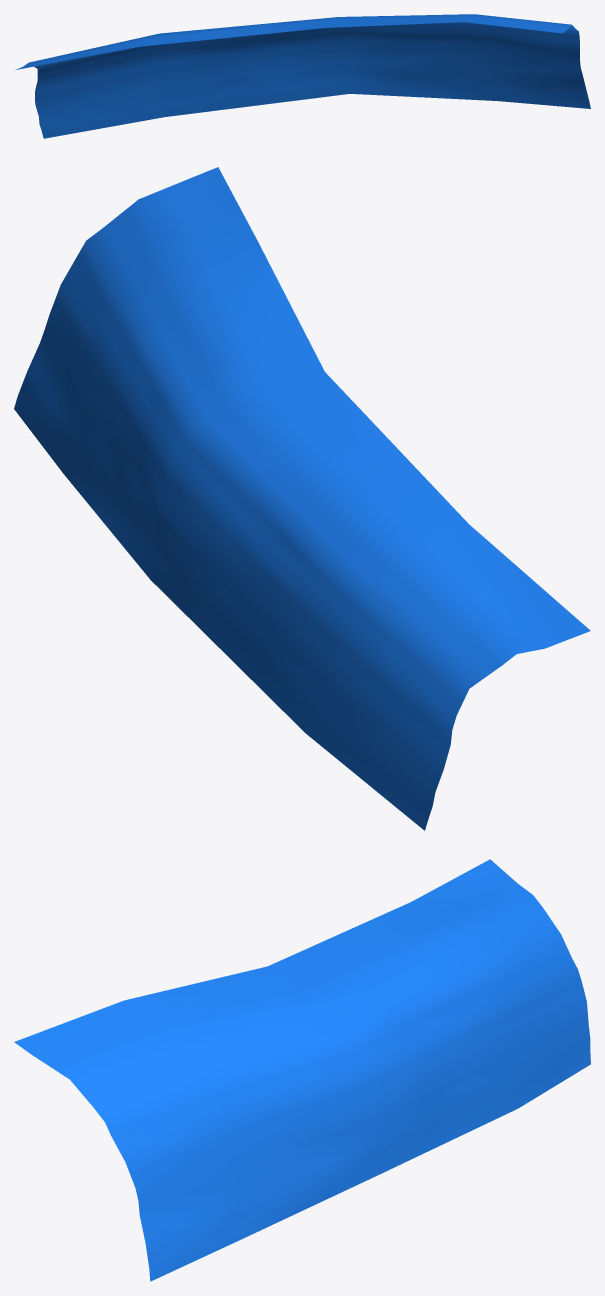
File: SM_EastLands_DemoSceneWaterfall_Foam_03.fbx
3 views of the same model, one above another, from view 1: azimuth 30°, elevation 25°; view 2: azimuth 150°, elevation 25°; view 3: azimuth 270°, elevation 25° (orthographic). The views are drawn at different scales.
Parts seen in each view (by area): view 1: SM_FarEast_DemoSceneWaterfall_Foam_03; view 2: SM_FarEast_DemoSceneWaterfall_Foam_03; view 3: SM_FarEast_DemoSceneWaterfall_Foam_03.
Boxes of the visible parts, box(x1,y1,x2,y2) form: SM_FarEast_DemoSceneWaterfall_Foam_03: box(14, 14, 590, 138); SM_FarEast_DemoSceneWaterfall_Foam_03: box(14, 167, 590, 830); SM_FarEast_DemoSceneWaterfall_Foam_03: box(14, 859, 590, 1281).
Size of the model in its own units: 23.02 by 8.22 by 17.16.
